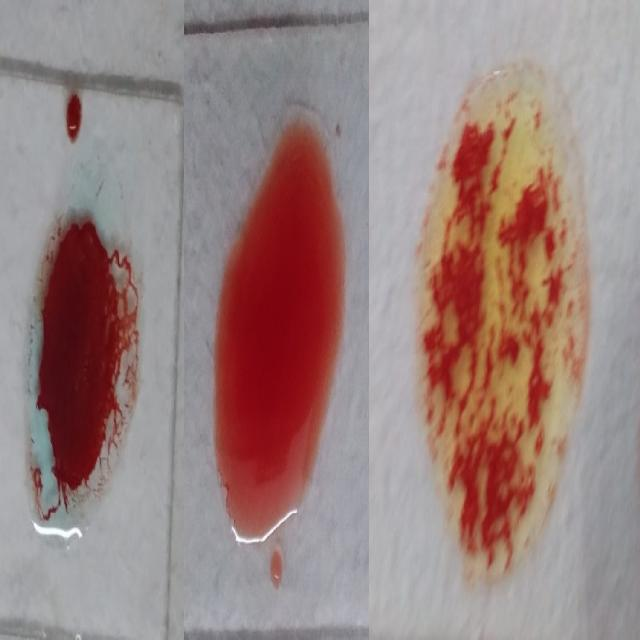A: (25, 152, 135, 546)
B: (422, 52, 586, 578)
